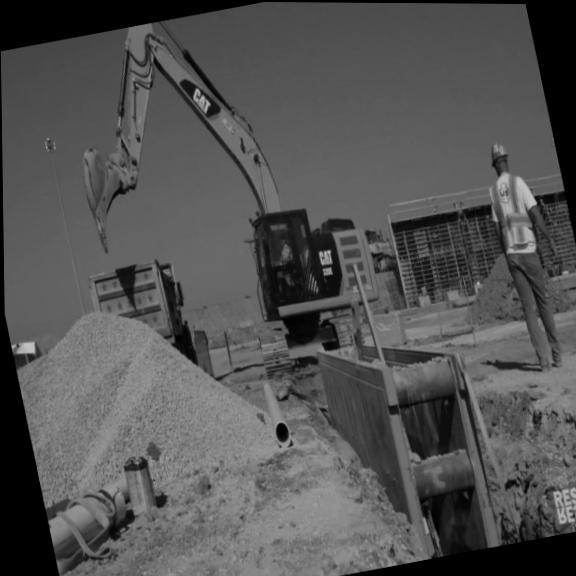safety_vest: (485, 169, 541, 255)
